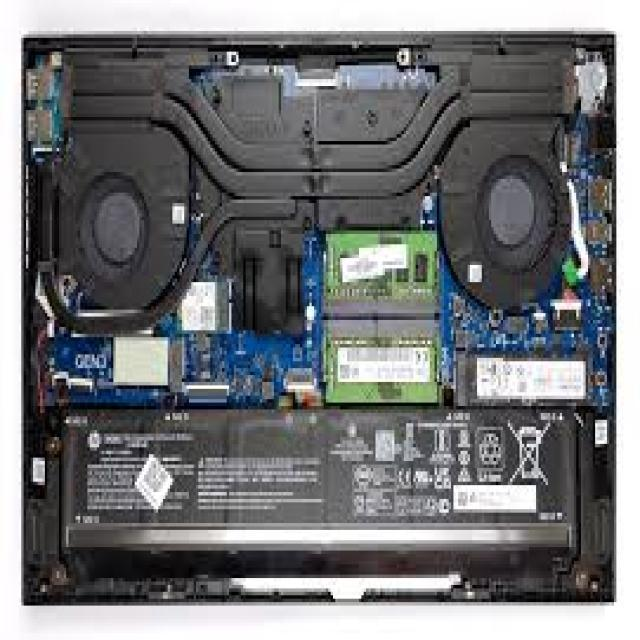NIC: (57, 405, 590, 574)
SSD: (171, 269, 242, 341)
